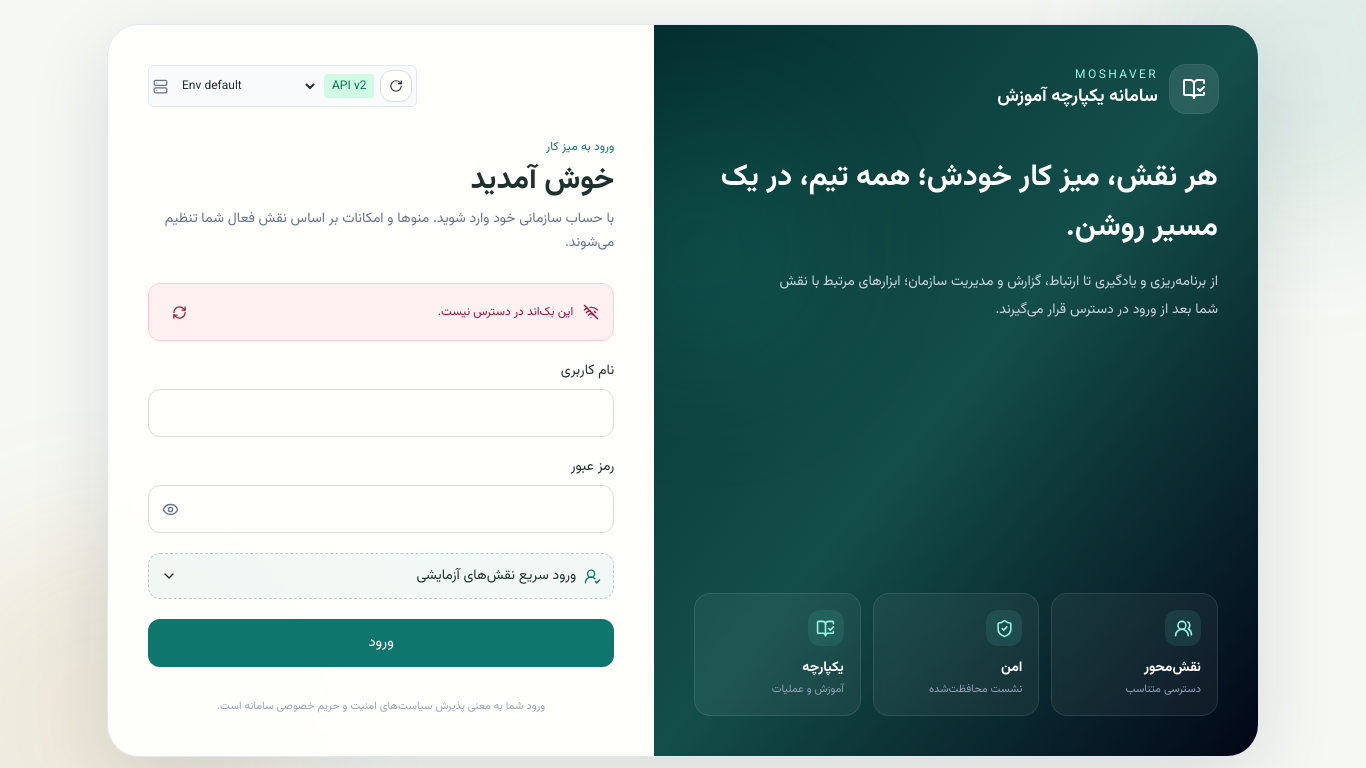
Test: LoginPage › validates required fields
Click the button "ورود".
click(381, 643)  # box [148,619,614,667]
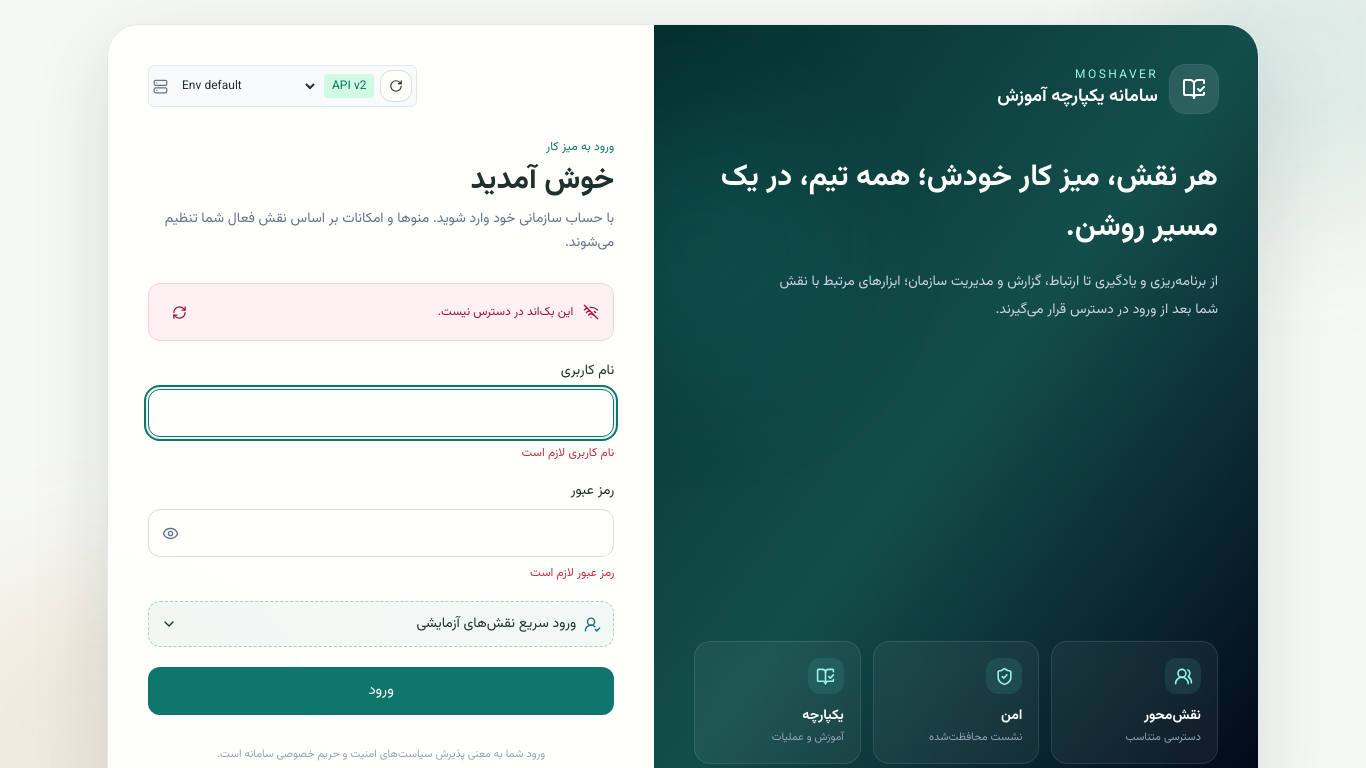
Expected: the text "نام کاربری لازم است" is shown, [521,444,614,462]
Expected: the text "رمز عبور لازم است" is shown, [530,564,614,582]
